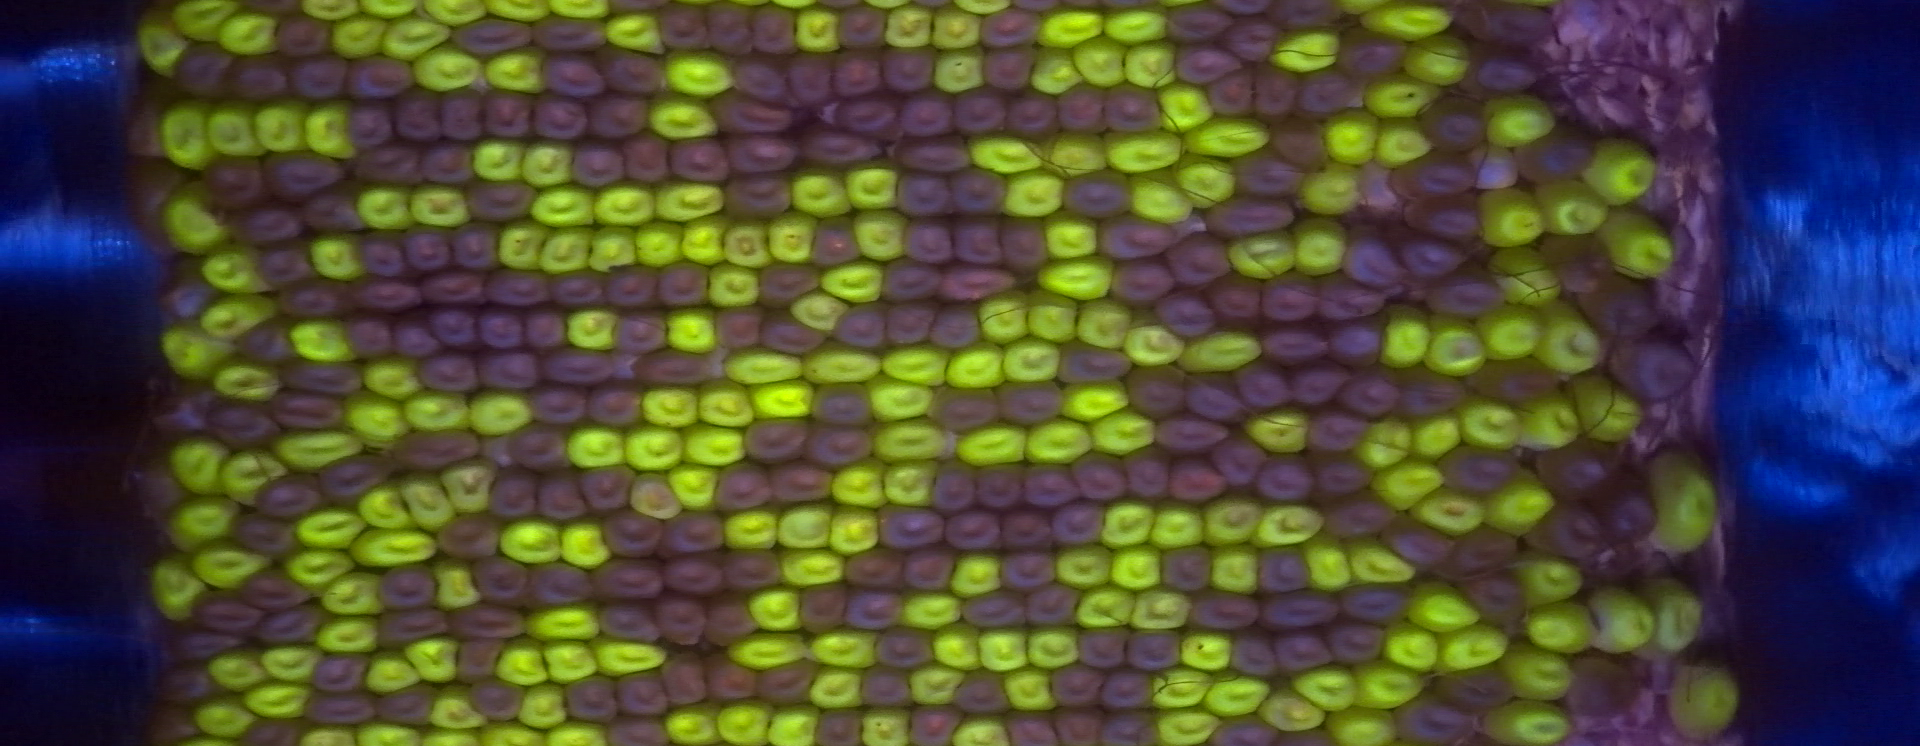fluorescent: (1644, 443, 1724, 562), (1624, 567, 1713, 668), (1589, 200, 1684, 289), (1659, 652, 1749, 744), (151, 178, 242, 263), (1559, 369, 1654, 448), (1576, 129, 1664, 212), (1524, 294, 1608, 380), (1580, 579, 1665, 663), (156, 490, 255, 559), (151, 318, 249, 387), (159, 428, 245, 505), (1471, 85, 1566, 153), (1494, 635, 1584, 707), (1480, 458, 1561, 538), (1505, 543, 1589, 619), (1341, 652, 1436, 718), (863, 412, 969, 470), (333, 383, 421, 453), (1505, 383, 1584, 459), (1401, 573, 1491, 639), (1416, 307, 1494, 383), (153, 93, 227, 174), (1176, 108, 1281, 164), (1520, 597, 1609, 663), (211, 443, 296, 512), (1531, 174, 1616, 243), (1484, 240, 1564, 314), (384, 467, 467, 538), (126, 4, 200, 82), (1469, 693, 1578, 746), (180, 535, 276, 595), (260, 424, 376, 473), (1449, 392, 1534, 458), (143, 550, 216, 628), (1471, 183, 1550, 254), (280, 502, 380, 559), (520, 595, 620, 652), (1427, 617, 1516, 680), (1406, 480, 1494, 543), (1367, 452, 1451, 517), (1473, 299, 1553, 367), (1340, 530, 1427, 593), (1396, 29, 1479, 94), (1096, 124, 1194, 179), (191, 239, 276, 303), (1174, 323, 1270, 380), (456, 383, 545, 443), (1260, 20, 1349, 80), (1113, 305, 1193, 372), (1031, 250, 1124, 307), (1220, 227, 1308, 287), (1374, 296, 1441, 375), (1120, 164, 1200, 230), (1030, 125, 1118, 184), (640, 87, 726, 147), (276, 545, 369, 600), (580, 628, 675, 682), (491, 510, 571, 573), (948, 418, 1040, 473), (435, 453, 508, 522), (1356, 69, 1449, 122), (396, 178, 482, 235), (643, 173, 733, 228), (718, 343, 814, 394), (1288, 657, 1368, 719), (1016, 279, 1089, 348), (959, 125, 1051, 179), (1138, 494, 1218, 555), (1195, 488, 1271, 552), (858, 369, 940, 429), (1018, 414, 1104, 470), (193, 288, 284, 342), (719, 624, 816, 674), (1253, 677, 1333, 737), (198, 97, 273, 162), (1373, 614, 1449, 677), (1354, 1, 1463, 45), (793, 339, 889, 390), (344, 524, 444, 572), (1283, 213, 1356, 279), (250, 639, 340, 692), (246, 96, 320, 160), (691, 375, 765, 439), (351, 479, 426, 543), (1053, 375, 1141, 429), (1198, 664, 1278, 723), (716, 497, 793, 559), (1048, 538, 1127, 598), (1316, 104, 1386, 171), (299, 96, 365, 167), (283, 314, 362, 372), (615, 420, 696, 478), (782, 163, 860, 223), (1089, 494, 1166, 554), (1239, 403, 1318, 462), (1168, 149, 1244, 209), (403, 39, 484, 96), (353, 349, 433, 405), (1084, 405, 1168, 459), (313, 567, 394, 624), (201, 356, 291, 407), (1296, 528, 1360, 598), (1248, 500, 1333, 552), (1069, 293, 1141, 355), (180, 693, 269, 744), (399, 385, 482, 439), (659, 47, 738, 103), (631, 379, 710, 435), (874, 454, 949, 514), (1149, 78, 1223, 138), (373, 13, 460, 65), (871, 341, 958, 392), (1293, 159, 1369, 218), (924, 614, 993, 679), (890, 586, 975, 638), (531, 635, 609, 692), (398, 628, 470, 690), (585, 174, 664, 230), (811, 252, 890, 307), (1025, 4, 1114, 53), (835, 154, 905, 217), (996, 659, 1068, 719), (770, 500, 844, 559), (1367, 111, 1440, 170), (1349, 413, 1423, 472), (1123, 579, 1198, 637), (673, 419, 753, 473), (796, 663, 876, 717), (490, 630, 558, 692), (994, 333, 1070, 390), (489, 213, 558, 274), (740, 579, 811, 639), (1142, 660, 1220, 715), (1401, 408, 1473, 467), (1035, 207, 1108, 265), (901, 658, 980, 712), (236, 674, 318, 725), (966, 284, 1033, 347), (820, 499, 889, 560), (424, 555, 493, 615), (349, 183, 422, 239), (525, 179, 604, 232), (938, 338, 1013, 393), (828, 454, 896, 514), (943, 548, 1011, 608), (996, 163, 1067, 220), (804, 624, 888, 673), (773, 541, 853, 592), (309, 610, 389, 660), (513, 134, 580, 194), (1118, 37, 1187, 96), (1069, 579, 1144, 633), (480, 43, 551, 99), (355, 646, 431, 698), (200, 646, 276, 698), (1320, 702, 1411, 746), (556, 419, 633, 470), (1202, 540, 1269, 600), (211, 9, 284, 62), (321, 10, 396, 62), (531, 223, 601, 279), (1171, 622, 1240, 679), (598, 9, 673, 60), (849, 205, 911, 267), (1104, 539, 1171, 598), (1141, 702, 1229, 746), (304, 229, 371, 287), (1022, 42, 1090, 99), (579, 220, 647, 278), (164, 1, 245, 49), (464, 134, 534, 189), (553, 512, 616, 573), (929, 40, 994, 99), (973, 620, 1040, 677), (700, 258, 769, 314), (1095, 2, 1176, 49), (421, 682, 496, 733), (673, 209, 733, 272), (656, 303, 722, 359), (624, 469, 691, 526), (1065, 34, 1133, 89), (661, 461, 730, 514), (746, 375, 823, 423), (715, 216, 779, 273), (784, 2, 849, 59), (629, 217, 694, 273), (710, 695, 780, 746), (558, 304, 626, 356), (1019, 620, 1086, 673), (509, 680, 576, 733), (784, 285, 855, 334), (763, 207, 820, 267), (921, 4, 989, 54), (753, 699, 827, 746), (658, 697, 725, 746), (879, 2, 943, 51), (851, 699, 916, 746), (944, 709, 1011, 746), (347, 718, 422, 746), (414, 1, 490, 28), (480, 1, 553, 28), (290, 722, 366, 746), (545, 1, 615, 23)
nonfluorescent: (1608, 325, 1706, 413), (1531, 432, 1629, 514), (1505, 111, 1604, 189), (1573, 267, 1665, 348), (116, 153, 189, 255), (1430, 437, 1531, 507), (1588, 469, 1668, 552), (1376, 503, 1463, 579), (1560, 648, 1649, 722), (1433, 514, 1524, 584), (1379, 218, 1471, 287), (1523, 499, 1615, 567), (1536, 227, 1624, 298), (1381, 145, 1484, 205), (1330, 220, 1409, 296), (1054, 162, 1144, 229), (1416, 260, 1511, 322), (311, 445, 399, 512), (1414, 89, 1496, 162), (1299, 443, 1389, 510), (1389, 359, 1479, 424), (193, 394, 291, 454), (1303, 265, 1395, 328), (1090, 207, 1187, 267), (918, 380, 1015, 440), (216, 508, 310, 570), (181, 583, 279, 642), (585, 38, 673, 103), (287, 183, 375, 247), (220, 310, 309, 375), (795, 115, 891, 174), (1051, 332, 1141, 394), (1455, 45, 1549, 105), (1400, 187, 1494, 247), (1156, 227, 1243, 292), (1173, 367, 1260, 432), (1118, 358, 1199, 428), (255, 148, 354, 205), (456, 170, 546, 232), (220, 197, 318, 254), (1298, 399, 1382, 464), (1200, 192, 1304, 245), (384, 424, 486, 478), (365, 601, 467, 655), (149, 619, 251, 673), (722, 49, 804, 115), (1471, 353, 1569, 408), (864, 495, 954, 555), (1224, 143, 1314, 203), (1254, 312, 1343, 372), (1249, 537, 1329, 604), (464, 549, 545, 615), (1433, 659, 1523, 718), (1251, 263, 1333, 328), (1204, 430, 1280, 500), (1389, 688, 1480, 746), (704, 85, 800, 140), (643, 583, 715, 655), (1100, 254, 1187, 314), (587, 592, 673, 652), (1098, 75, 1174, 143), (504, 415, 580, 484), (714, 169, 806, 225), (241, 597, 333, 653), (1458, 1, 1559, 53), (444, 11, 542, 64), (595, 503, 676, 567), (429, 508, 514, 568), (1319, 488, 1404, 548), (583, 552, 676, 608), (1321, 309, 1395, 379), (1251, 583, 1344, 638), (467, 342, 553, 401), (986, 377, 1076, 434), (271, 352, 370, 403), (195, 149, 273, 214), (168, 39, 242, 107), (884, 127, 980, 180), (940, 660, 1022, 722), (1330, 575, 1423, 628), (929, 257, 1029, 307), (441, 597, 538, 648), (1456, 570, 1536, 632), (796, 416, 884, 473), (246, 465, 331, 524), (336, 269, 430, 322), (130, 452, 201, 522), (1065, 443, 1138, 512), (140, 374, 214, 440), (271, 272, 364, 325), (246, 235, 324, 298), (705, 458, 784, 521), (1331, 28, 1414, 87), (220, 48, 300, 109), (735, 413, 814, 474), (1051, 77, 1124, 143), (258, 387, 355, 437), (579, 87, 660, 147), (1149, 283, 1224, 347), (713, 541, 795, 600), (1118, 620, 1195, 682), (527, 9, 620, 60), (696, 588, 767, 655), (527, 464, 599, 530), (656, 543, 736, 603), (371, 559, 451, 619), (803, 379, 888, 435), (833, 88, 913, 147), (1264, 118, 1340, 180), (760, 454, 842, 512), (836, 582, 918, 639), (751, 255, 829, 315), (751, 303, 829, 363), (1280, 355, 1358, 415), (618, 122, 684, 194), (579, 374, 651, 439), (564, 135, 638, 198), (151, 263, 224, 327), (1014, 454, 1089, 517), (571, 458, 645, 521), (1180, 586, 1271, 637), (1160, 1, 1248, 54), (1316, 610, 1393, 670), (348, 137, 430, 194), (298, 643, 380, 699), (969, 454, 1036, 523), (1000, 83, 1071, 148), (944, 159, 1015, 224), (535, 47, 613, 105), (370, 674, 448, 733), (824, 44, 896, 108), (143, 660, 233, 712), (407, 347, 490, 402), (1118, 440, 1180, 513), (1156, 452, 1236, 510), (336, 51, 422, 104), (1248, 448, 1322, 510), (626, 344, 719, 393), (887, 165, 962, 225), (414, 299, 490, 359), (1333, 363, 1409, 423), (231, 563, 316, 617), (751, 654, 828, 713), (948, 80, 1018, 145), (780, 45, 845, 115), (480, 464, 550, 529), (558, 668, 628, 733), (525, 85, 596, 148), (994, 209, 1058, 281), (1284, 65, 1367, 120), (825, 296, 898, 359), (660, 132, 738, 190), (835, 543, 913, 600), (520, 559, 604, 612), (699, 648, 774, 708), (718, 125, 804, 176), (534, 341, 621, 392), (459, 669, 535, 728), (947, 207, 1013, 274), (1202, 265, 1271, 330), (895, 83, 965, 147), (651, 255, 721, 318), (294, 684, 384, 733), (973, 38, 1044, 100), (596, 257, 669, 318), (920, 453, 986, 519), (386, 82, 451, 149), (1221, 624, 1289, 687), (801, 212, 871, 274), (473, 83, 544, 145), (1166, 38, 1250, 89), (283, 48, 356, 107), (876, 252, 950, 310), (896, 209, 962, 274), (410, 262, 493, 314), (1265, 624, 1341, 680), (1146, 407, 1236, 454), (1044, 657, 1116, 717), (868, 619, 945, 674), (1228, 356, 1300, 415), (1016, 577, 1090, 635), (989, 544, 1064, 600), (654, 650, 721, 713), (347, 224, 415, 285), (119, 87, 171, 167), (923, 296, 993, 356), (1044, 492, 1114, 552), (475, 262, 558, 312), (1245, 59, 1309, 124), (896, 539, 962, 601), (520, 379, 595, 434), (469, 299, 538, 359), (994, 500, 1064, 559), (851, 658, 921, 717), (1153, 541, 1224, 599), (956, 586, 1033, 638), (659, 507, 736, 560), (605, 305, 678, 360), (433, 82, 493, 149), (336, 307, 403, 367), (611, 664, 680, 723), (938, 503, 1010, 559), (878, 39, 944, 99), (413, 135, 481, 192), (975, 2, 1046, 58), (336, 97, 403, 154), (1202, 62, 1265, 124), (542, 265, 615, 317), (1098, 661, 1166, 718), (271, 9, 339, 64), (1069, 620, 1138, 675), (793, 579, 856, 639), (444, 218, 508, 277), (830, 2, 898, 58), (381, 312, 451, 365), (518, 300, 579, 359), (396, 220, 458, 278), (131, 698, 204, 746), (1091, 704, 1174, 746), (898, 698, 969, 746), (709, 300, 770, 355), (653, 1, 711, 58), (451, 633, 511, 688), (804, 699, 876, 746), (1216, 12, 1281, 62), (749, 1, 803, 61), (1041, 699, 1109, 746), (879, 295, 938, 349), (703, 4, 760, 58), (596, 708, 677, 746), (227, 712, 316, 746), (996, 703, 1067, 746), (1196, 712, 1282, 746), (1261, 1, 1344, 34)
